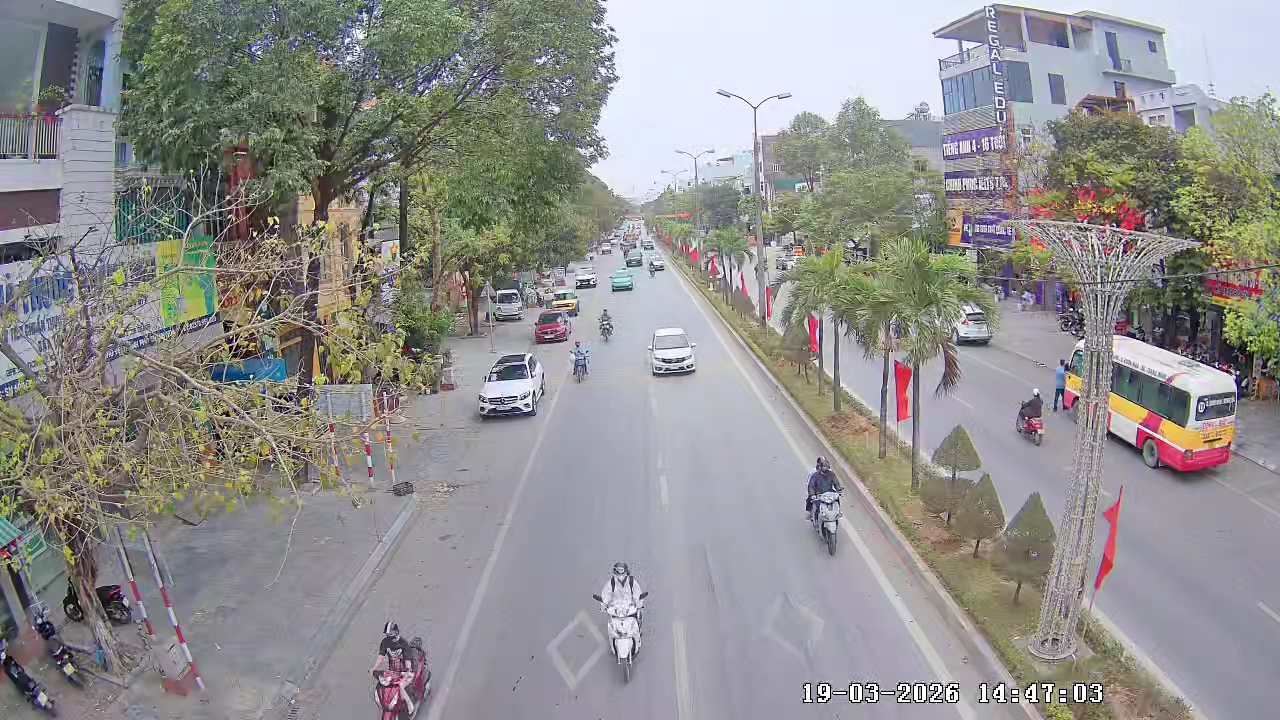bus: (1106, 339, 1238, 475)
car: (476, 352, 546, 419), (646, 325, 699, 377), (532, 309, 569, 345), (954, 320, 993, 346), (611, 269, 637, 292)
motorbike: (591, 559, 652, 682), (366, 618, 436, 719), (802, 455, 846, 556), (1014, 387, 1048, 447), (569, 339, 590, 383), (597, 306, 615, 343)
truck: (1106, 340, 1240, 474)
